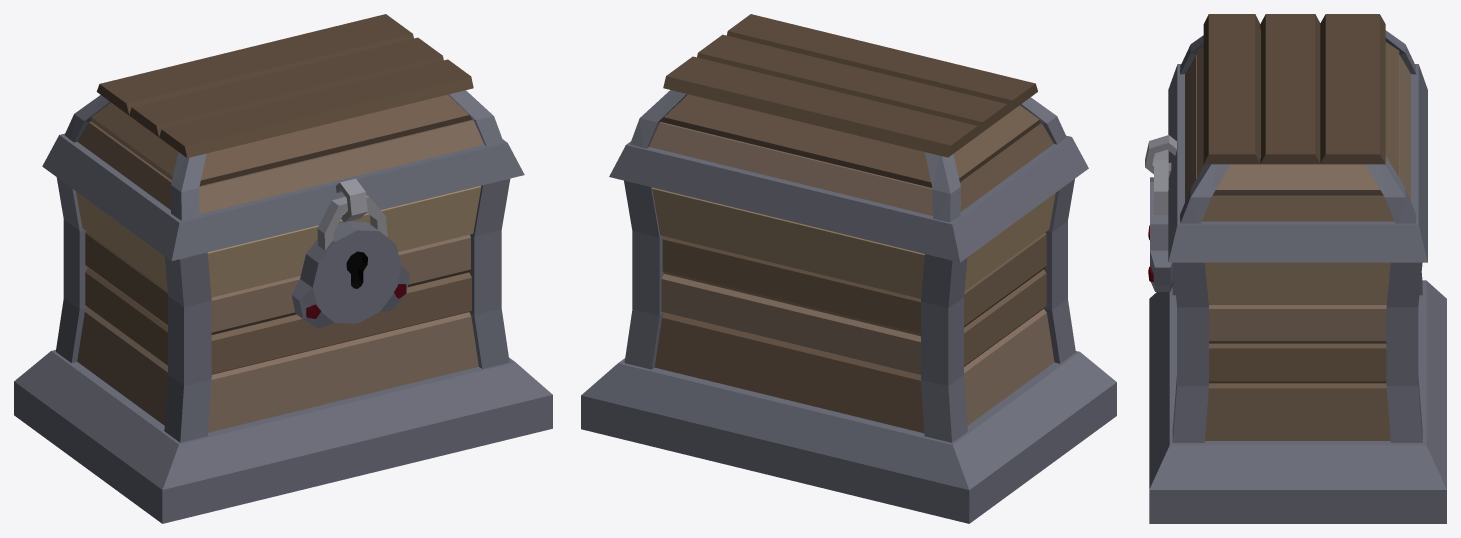
Rendered from _trunk_4.fbx.
3 renders of one model, left to right at view 1: azimuth 30°, elevation 25°; view 2: azimuth 150°, elevation 25°; view 3: azimuth 270°, elevation 25°, orthographic.
Parts seen in each view (by area): view 1: trunk_4; view 2: trunk_4; view 3: trunk_4.
Boxes of the visible parts, x1,y1,x2,y2 form: trunk_4: (14, 14, 552, 523); trunk_4: (581, 14, 1116, 523); trunk_4: (1145, 14, 1446, 523).
Bounding box in the file's own units: 93.71 × 78.73 × 62.58.
